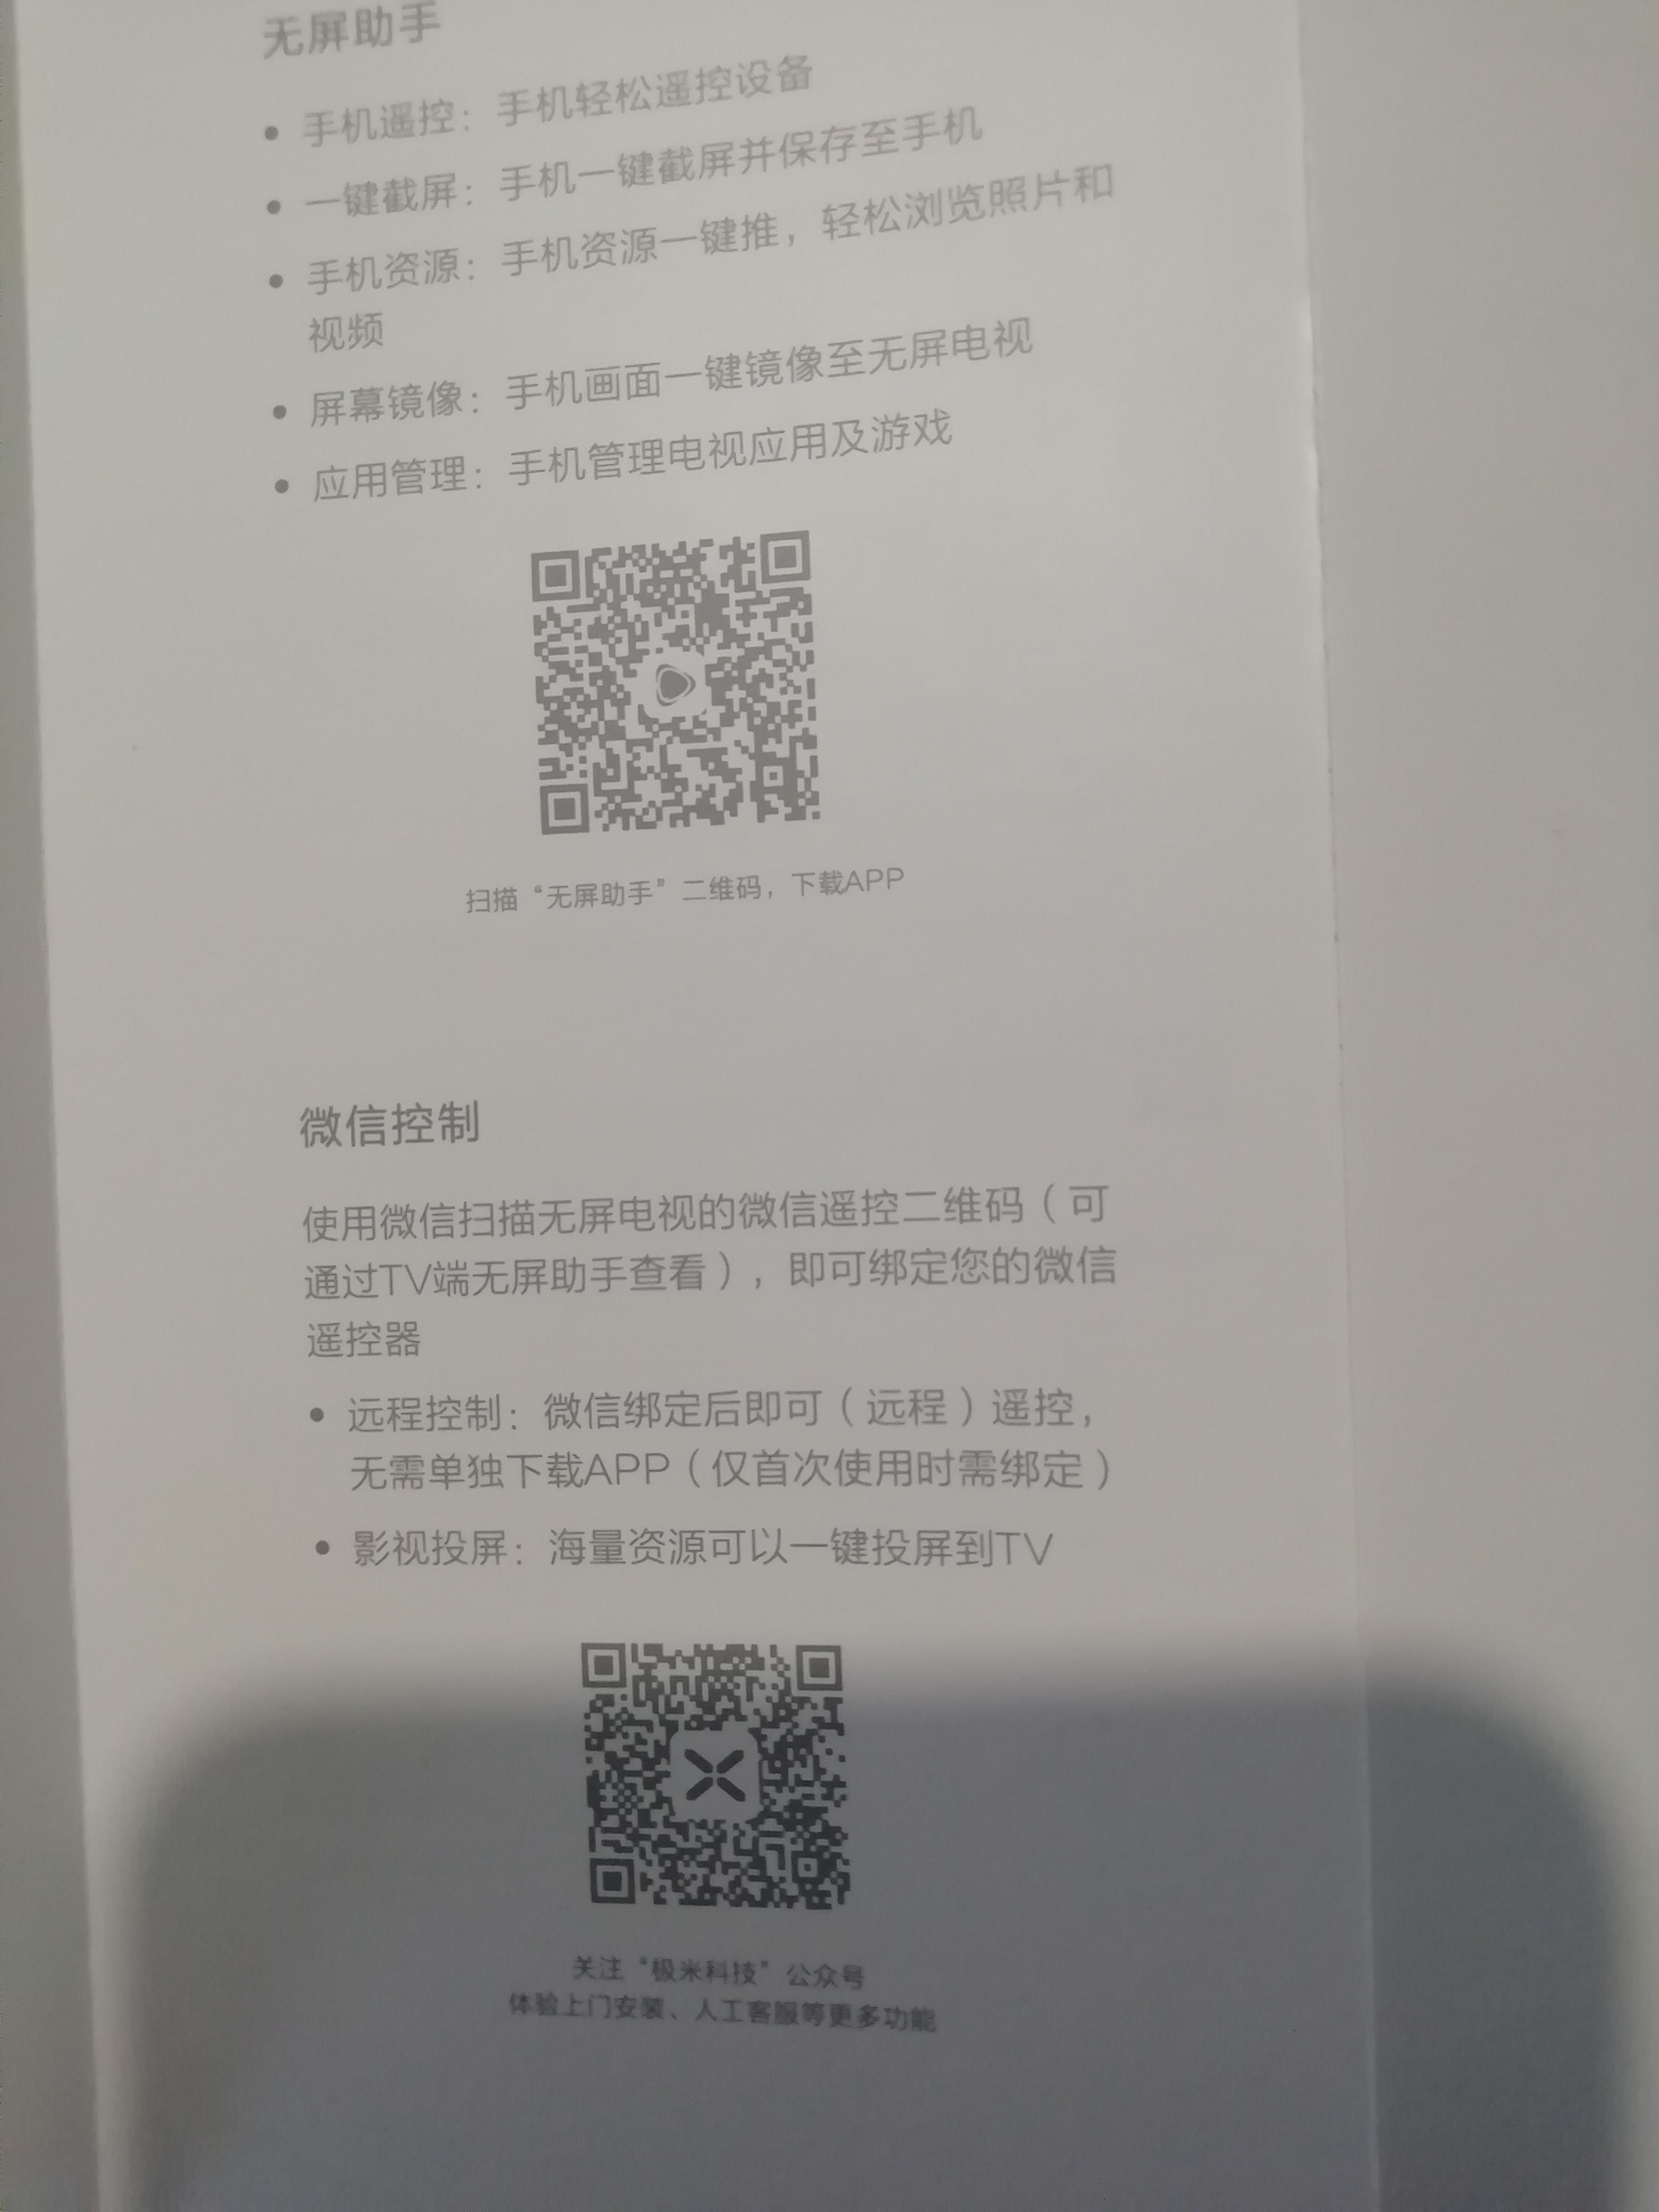qrcode: (530, 529, 828, 838), (580, 1641, 859, 1914)
